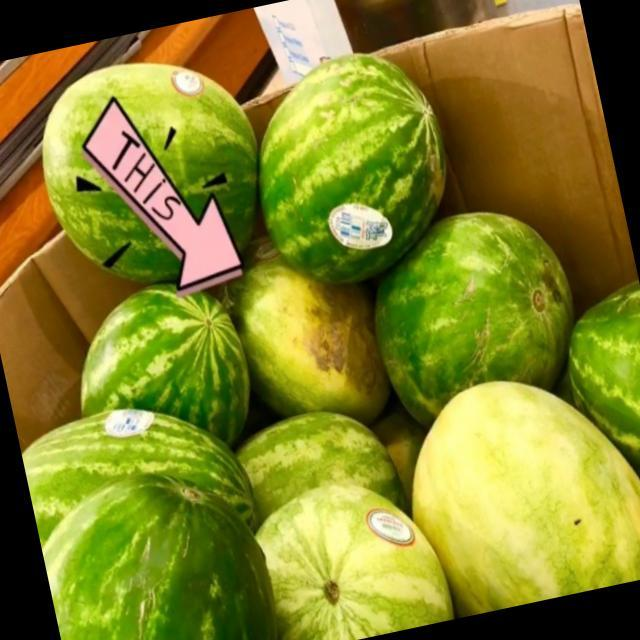WATERMELON: (393, 350, 640, 621), (24, 41, 268, 286), (355, 176, 590, 420), (238, 45, 460, 278), (35, 460, 282, 640), (17, 384, 260, 544), (222, 212, 396, 426), (247, 468, 453, 640), (59, 277, 250, 443), (233, 374, 417, 528), (545, 265, 640, 510)
